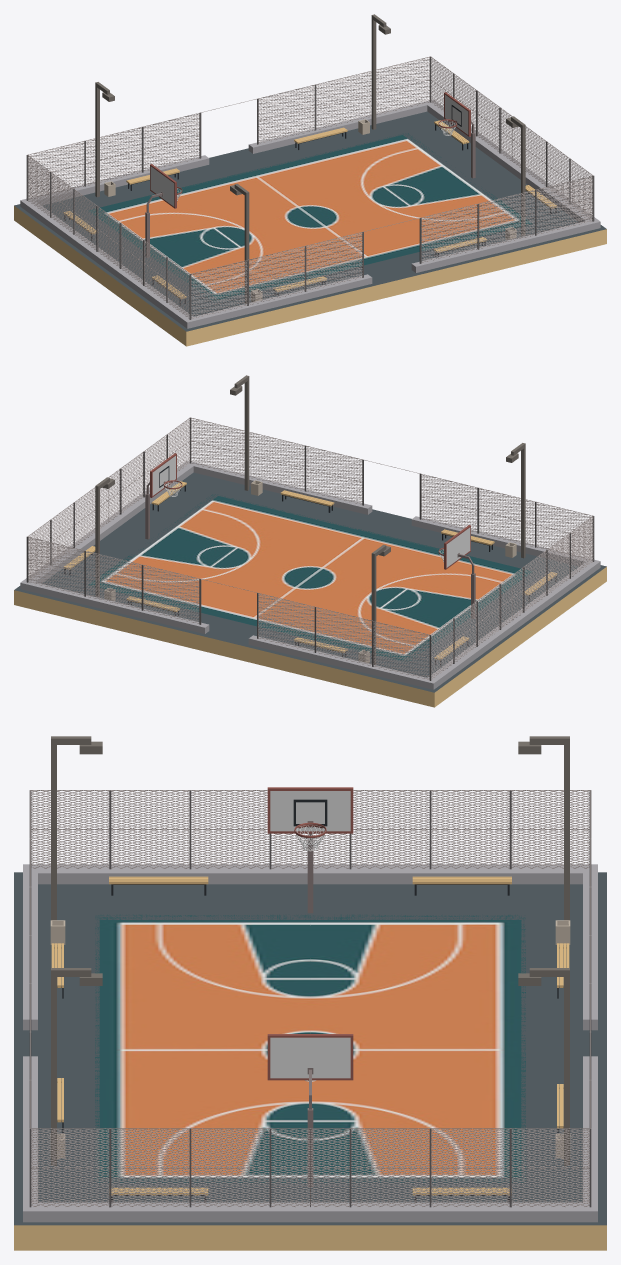
File: basketball_court.glb
3 renders of one model, top to bottom at view 1: azimuth 30°, elevation 25°; view 2: azimuth 150°, elevation 25°; view 3: azimuth 270°, elevation 25°, orthographic. The views are drawn at different scales.
Parts seen in each view (by area): view 1: Base_1, Court_2, Light Pillars_3, Benches_4, Basketball_Stand_6, Mesh_Bars_7, Dust_Bin_5; view 2: Base_1, Court_2, Light Pillars_3, Benches_4, Basketball_Stand_6, Mesh_Bars_7, Dust_Bin_5; view 3: Base_1, Court_2, Basketball_Stand_6, Light Pillars_3, Benches_4, Mesh_Bars_7, Dust_Bin_5.
Part boxes in pixels (x1,y1,x2,y2): Base_1: (14, 57, 606, 346); Court_2: (88, 133, 532, 301); Light Pillars_3: (95, 14, 525, 303); Benches_4: (63, 120, 556, 305); Basketball_Stand_6: (145, 92, 475, 257); Mesh_Bars_7: (27, 56, 593, 296); Dust_Bin_5: (104, 119, 516, 302); Base_1: (14, 418, 606, 707); Court_2: (88, 494, 532, 661); Light Pillars_3: (95, 375, 525, 664); Benches_4: (64, 481, 557, 666); Basketball_Stand_6: (145, 453, 475, 618); Mesh_Bars_7: (27, 417, 593, 657); Dust_Bin_5: (104, 480, 516, 663); Base_1: (14, 790, 606, 1250); Court_2: (95, 914, 525, 1182); Basketball_Stand_6: (267, 787, 353, 1186); Light Pillars_3: (51, 736, 569, 1165); Benches_4: (51, 876, 569, 1202); Mesh_Bars_7: (30, 790, 590, 1168); Dust_Bin_5: (50, 920, 570, 1158).
Size of the model in its own units: 5.79 by 1.69 by 4.11.
Materials: 13 (1 with a texture image).
